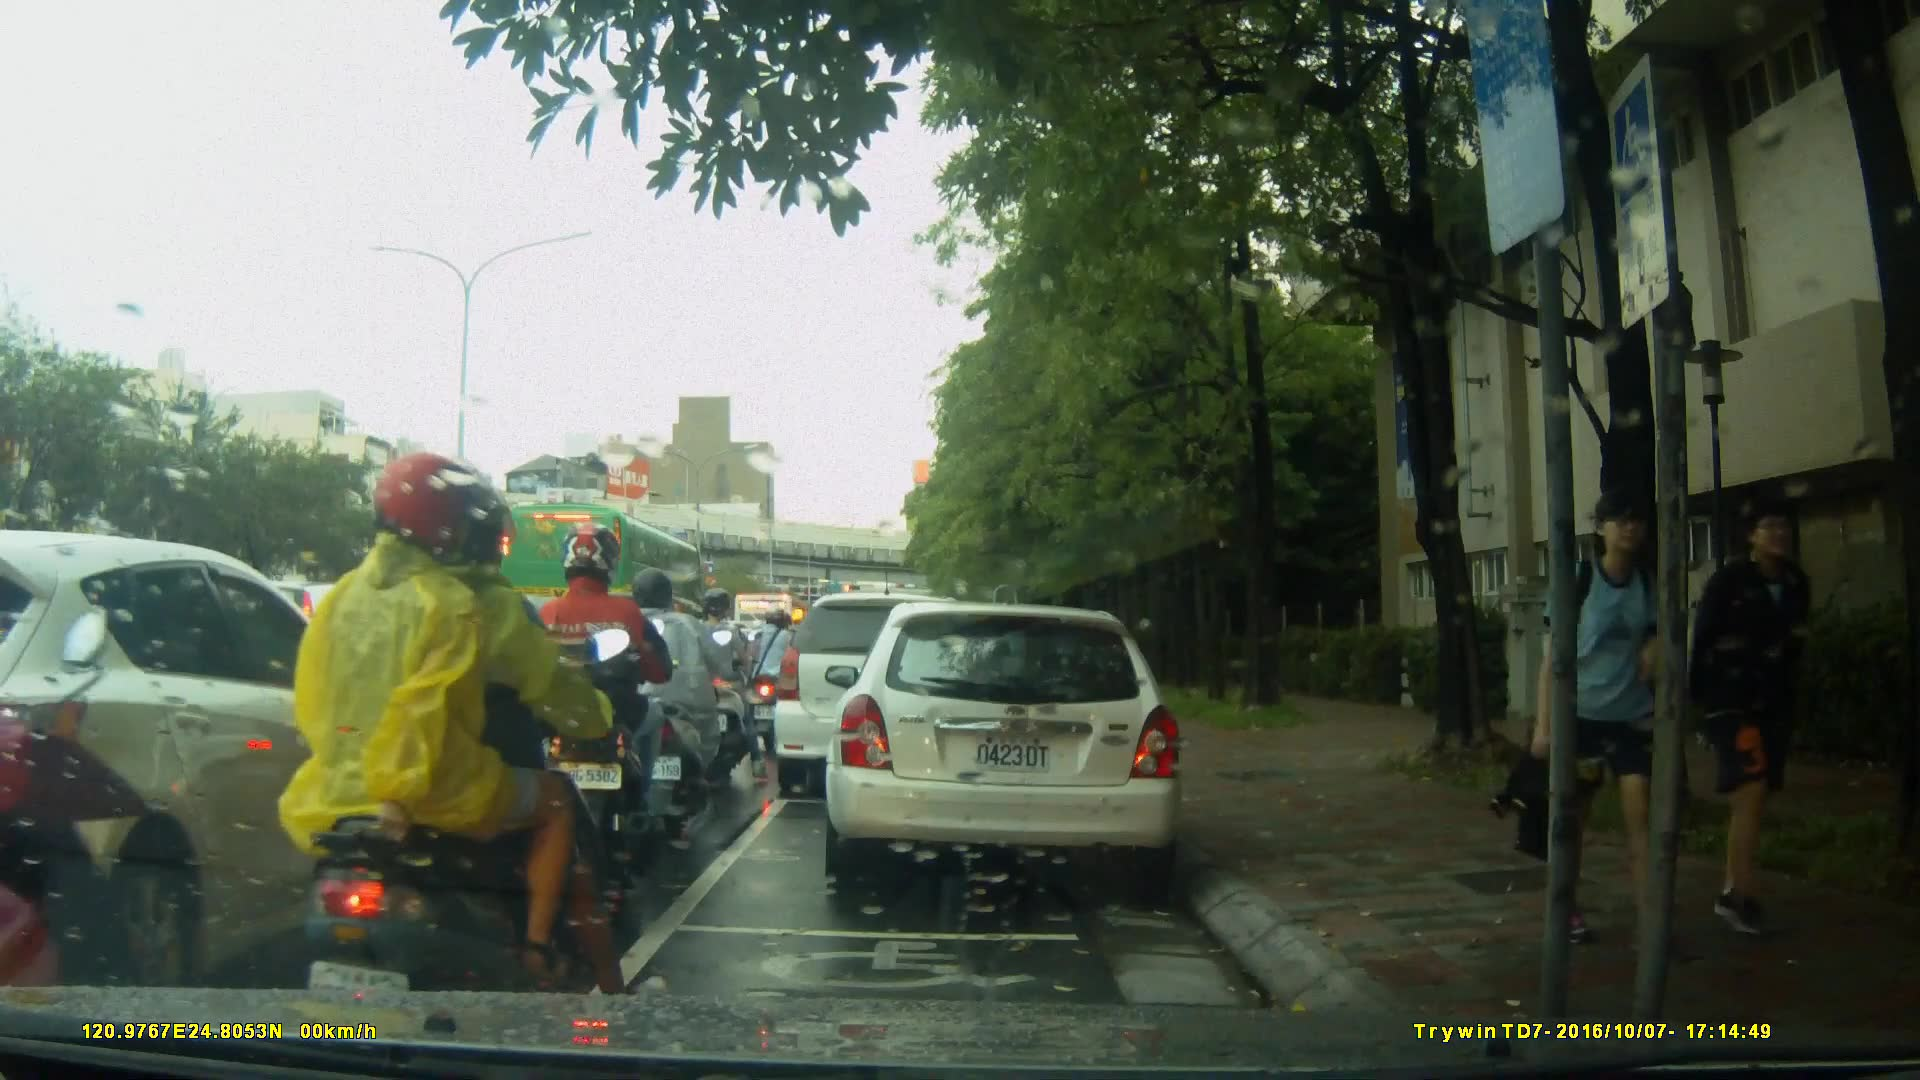pedestrian: (1504, 481, 1710, 971), (1673, 510, 1814, 938)
rider: (270, 451, 620, 1049), (1, 415, 187, 1063), (523, 520, 677, 878), (605, 567, 729, 825), (683, 582, 763, 776), (747, 607, 808, 745)
vehicle: (2, 532, 459, 988), (831, 592, 1196, 897), (321, 590, 629, 776), (770, 590, 999, 804), (495, 501, 707, 636)
